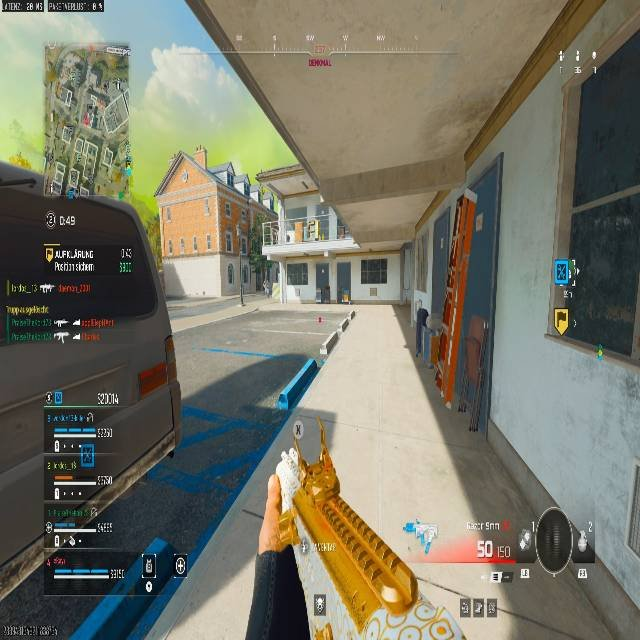player: (262, 280, 272, 297)
